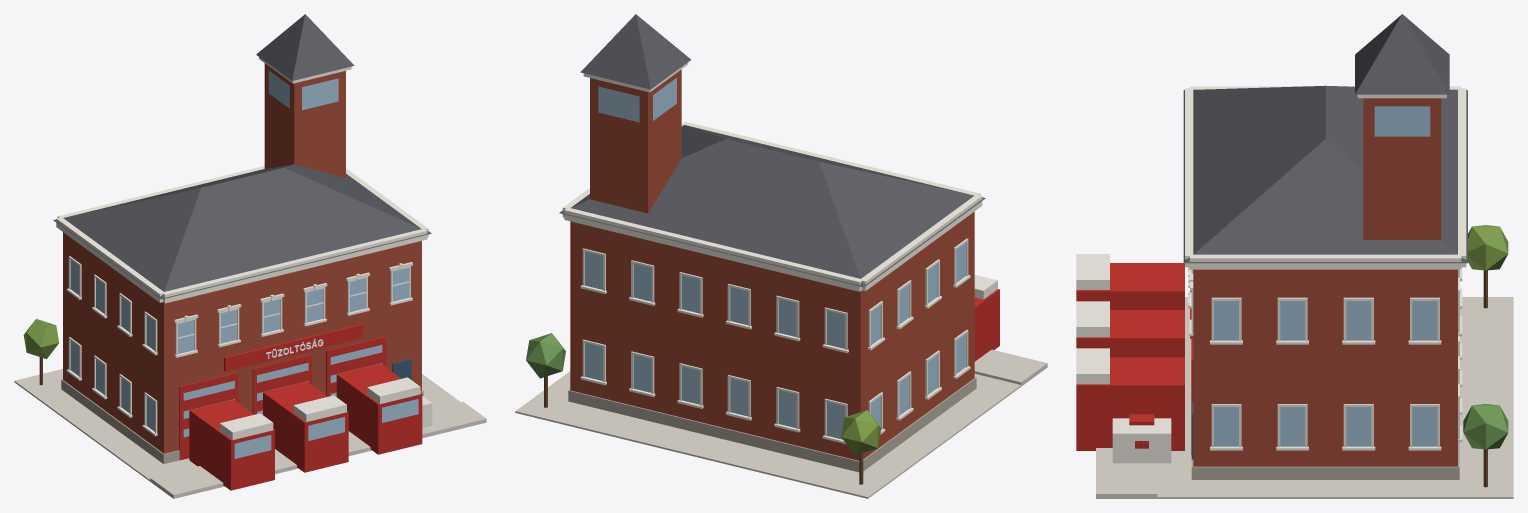
Rendered from Kamu_itfaiye_1_Hafif.fbx.
3 views of the same model, side by side, from view 1: azimuth 30°, elevation 25°; view 2: azimuth 150°, elevation 25°; view 3: azimuth 270°, elevation 25° (orthographic). The views are drawn at different scales.
Parts seen in each view (by area): view 1: Kamu_itfaiye_1_Hafif; view 2: Kamu_itfaiye_1_Hafif; view 3: Kamu_itfaiye_1_Hafif.
Part boxes in pixels (bbox=[...]): Kamu_itfaiye_1_Hafif: bbox=[14, 14, 486, 498]; Kamu_itfaiye_1_Hafif: bbox=[515, 14, 1047, 498]; Kamu_itfaiye_1_Hafif: bbox=[1076, 14, 1513, 498].
Size of the model in its own units: 17 by 17.58 by 15.71.
